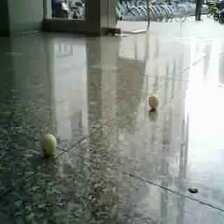w: (39, 134, 58, 156), (147, 94, 160, 109)
